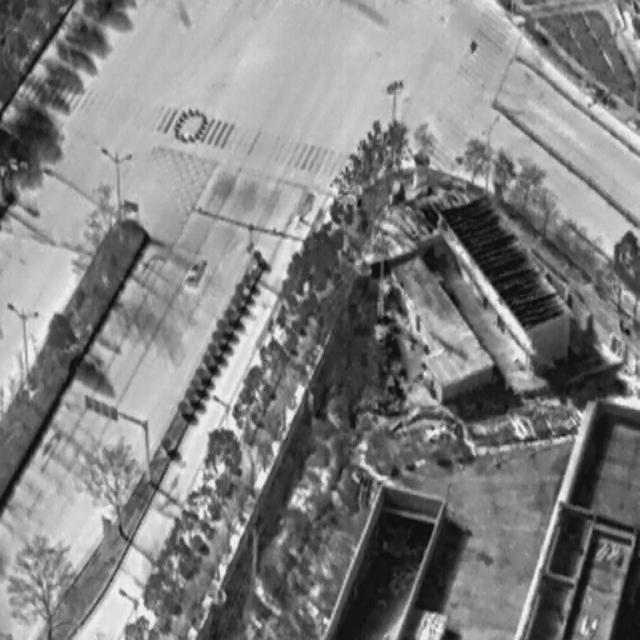Car: (180, 249, 209, 290)
Person: (469, 36, 477, 55)
